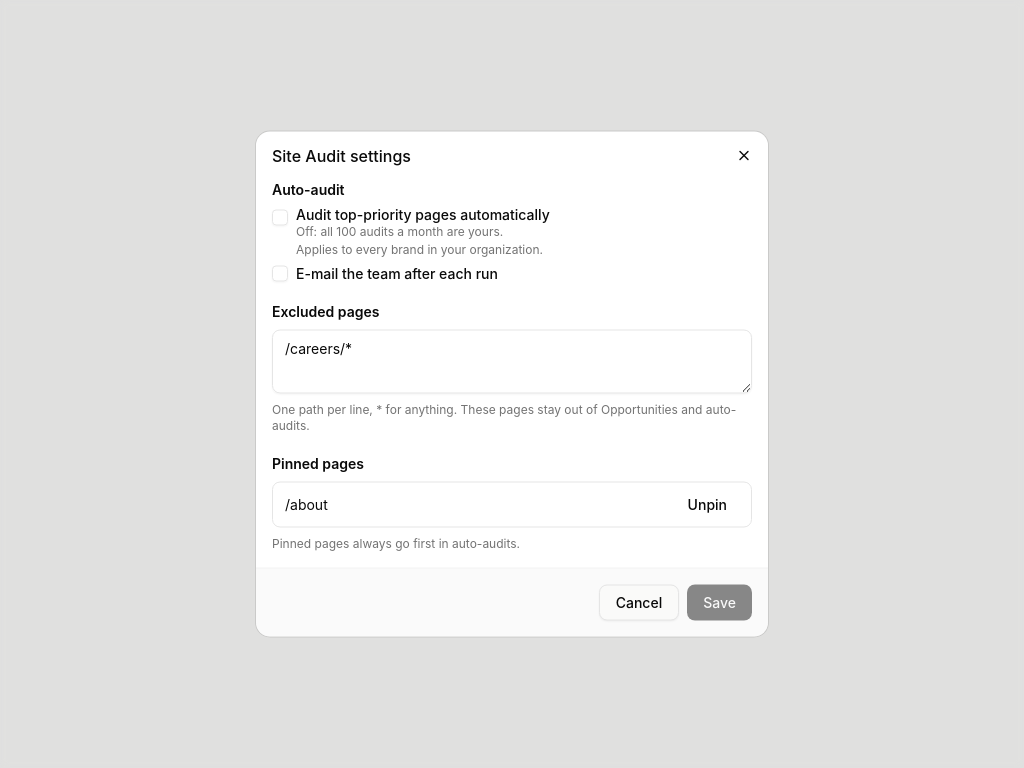
Test: AuditSettingsDialog › says when the first run is once auto-audit is turned on, and nothing while off
The width and height of the screenshot is (1024, 768).
Click the checkbox with id "audit-auto": (280,218) [272, 210, 288, 226]
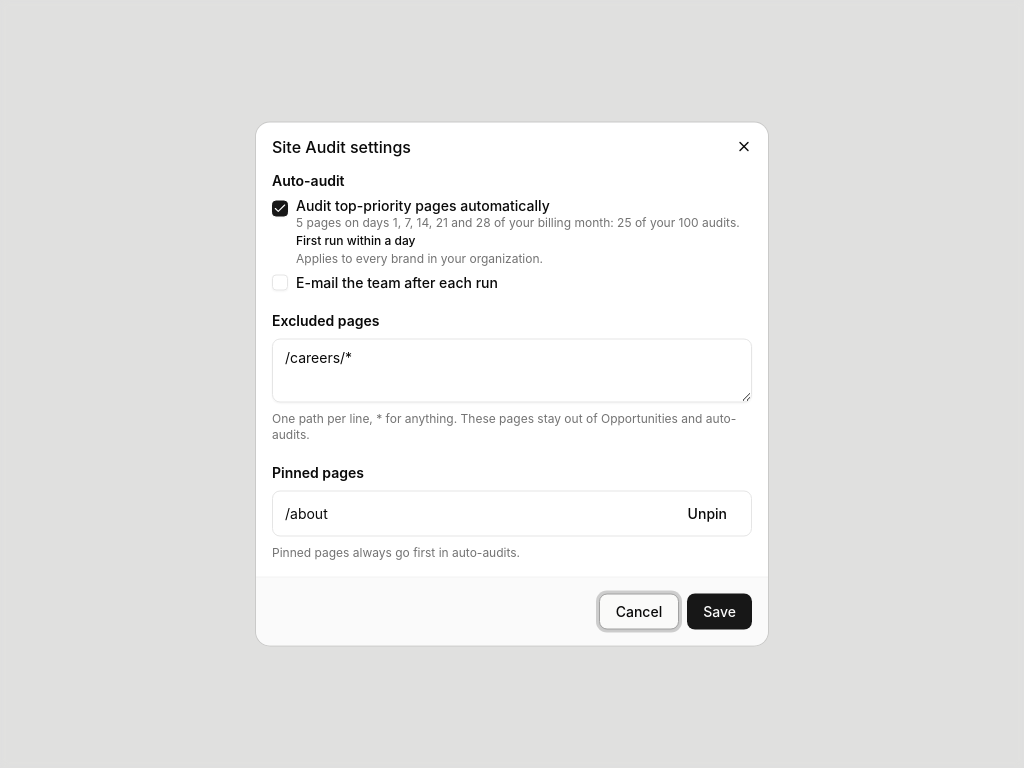
Result: the dialog shows "First run within a day" at [296, 232, 416, 248]
